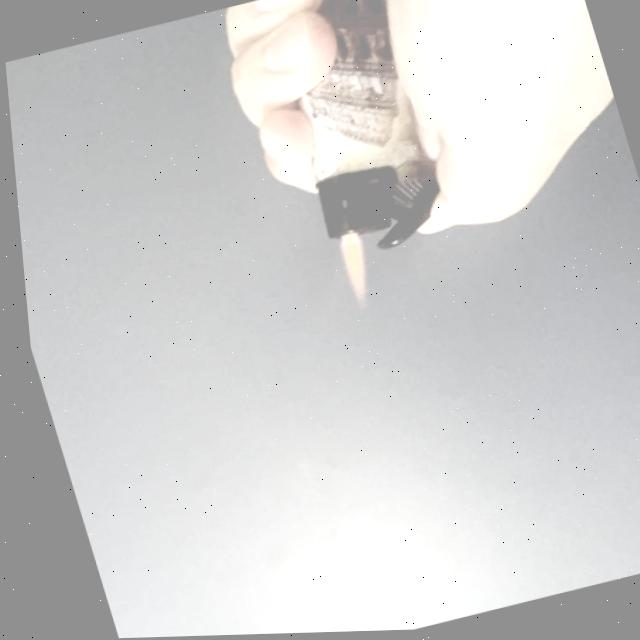Fire: (325, 230, 378, 308)
